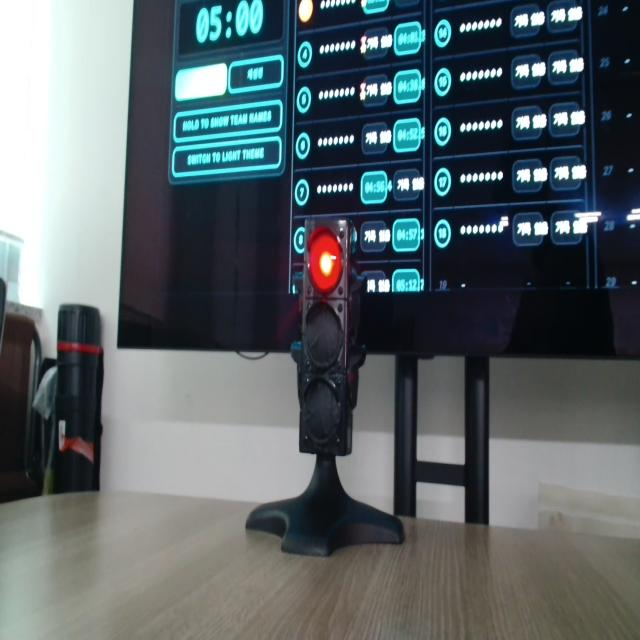red_light: (309, 227, 342, 293)
